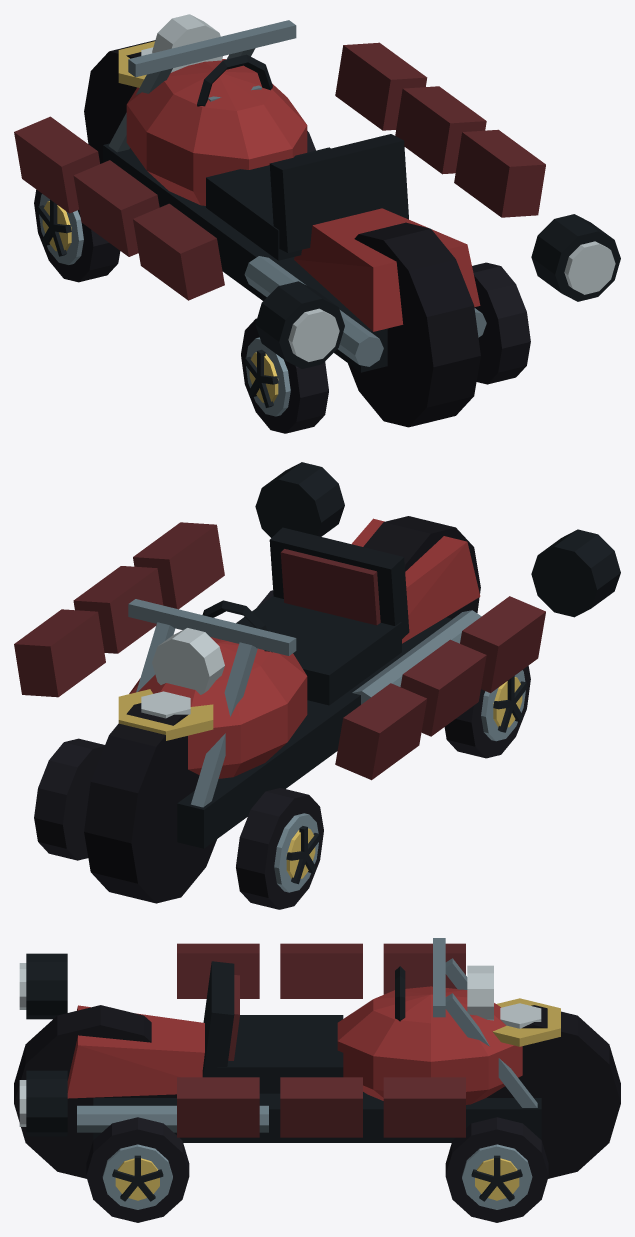
File: kart.glb
The picture shows the model from 3 angles, top to bottom: view 1: azimuth 30°, elevation 25°; view 2: azimuth 150°, elevation 25°; view 3: azimuth 270°, elevation 25°; orthographic projection. The views are drawn at different scales.
Visible parts, largest first — view 1: identity-motorbike-motorbike-tank-and-fork, identity-motorbike-motif-armor, identity-motorbike-driver-cockpit, identity-motorbike-motif-thrusters, wheel-rear-left, wheel-rear-right, wheel-front-left, identity-motorbike-motif-badge; view 2: identity-motorbike-motorbike-tank-and-fork, identity-motorbike-motif-armor, identity-motorbike-driver-cockpit, identity-motorbike-motif-thrusters, wheel-front-left, wheel-front-right, wheel-rear-left, identity-motorbike-motif-badge; view 3: identity-motorbike-motorbike-tank-and-fork, identity-motorbike-motif-armor, identity-motorbike-driver-cockpit, wheel-rear-right, wheel-front-right, identity-motorbike-motif-thrusters, identity-motorbike-motif-badge.
Part boxes in pixels (x1,y1,x2,y2): identity-motorbike-motorbike-tank-and-fork: [84, 14, 486, 427]; identity-motorbike-motif-armor: [14, 42, 545, 300]; identity-motorbike-driver-cockpit: [197, 54, 408, 260]; identity-motorbike-motif-thrusters: [255, 214, 620, 368]; wheel-rear-left: [241, 318, 328, 433]; wheel-rear-right: [472, 262, 530, 384]; wheel-front-left: [34, 189, 120, 282]; identity-motorbike-motif-badge: [118, 41, 154, 87]; identity-motorbike-motorbike-tank-and-fork: [84, 516, 481, 903]; identity-motorbike-motif-armor: [14, 522, 545, 780]; identity-motorbike-driver-cockpit: [202, 527, 409, 705]; identity-motorbike-motif-thrusters: [255, 462, 620, 617]; wheel-front-left: [236, 788, 323, 909]; wheel-front-right: [34, 738, 104, 860]; wheel-rear-left: [444, 665, 530, 758]; identity-motorbike-motif-badge: [118, 689, 213, 740]; identity-motorbike-motorbike-tank-and-fork: [14, 938, 620, 1178]; identity-motorbike-motif-armor: [177, 943, 465, 1137]; identity-motorbike-driver-cockpit: [202, 961, 405, 1093]; wheel-rear-right: [86, 1117, 189, 1222]; wheel-front-right: [445, 1117, 548, 1222]; identity-motorbike-motif-thrusters: [19, 953, 67, 1136]; identity-motorbike-motif-badge: [492, 998, 560, 1046].
Size of the model in its own units: 1.78 by 1.09 by 2.94.
